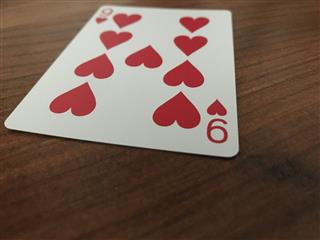NineOfHearts: (2, 4, 239, 158)
